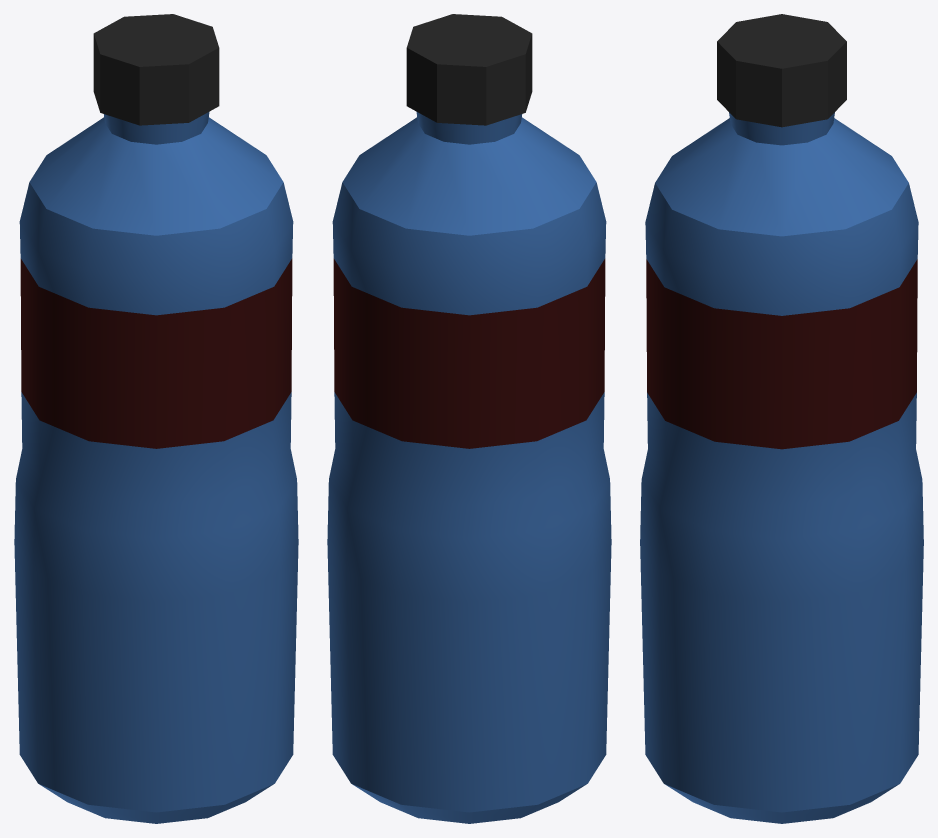
File: WaterBottle_3.fbx
The picture shows the model from 3 angles, left to right: view 1: azimuth 30°, elevation 25°; view 2: azimuth 150°, elevation 25°; view 3: azimuth 270°, elevation 25°; orthographic projection.
Parts seen in each view (by area): view 1: WaterBottle_3; view 2: WaterBottle_3; view 3: WaterBottle_3.
Boxes of the visible parts, x1,y1,x2,y2 form: WaterBottle_3: (14, 14, 298, 823); WaterBottle_3: (327, 14, 611, 823); WaterBottle_3: (640, 14, 923, 823).
Bounding box in the file's own units: 49.95 × 49.95 × 144.
